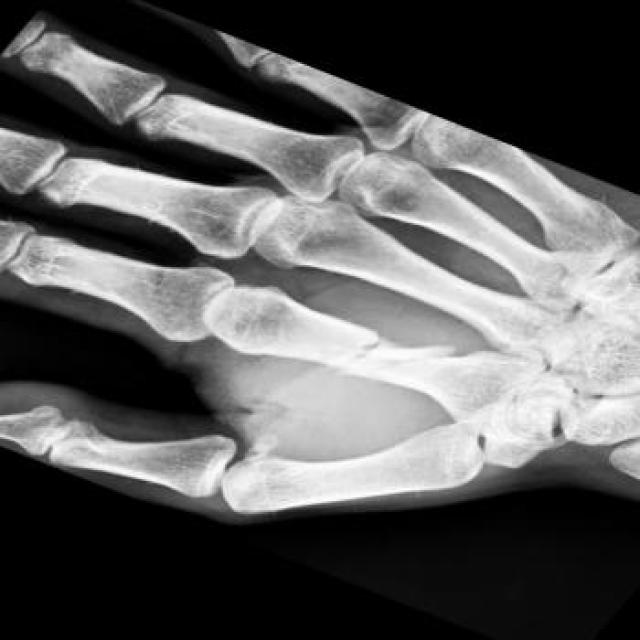Fracture: (326, 324, 412, 379)
